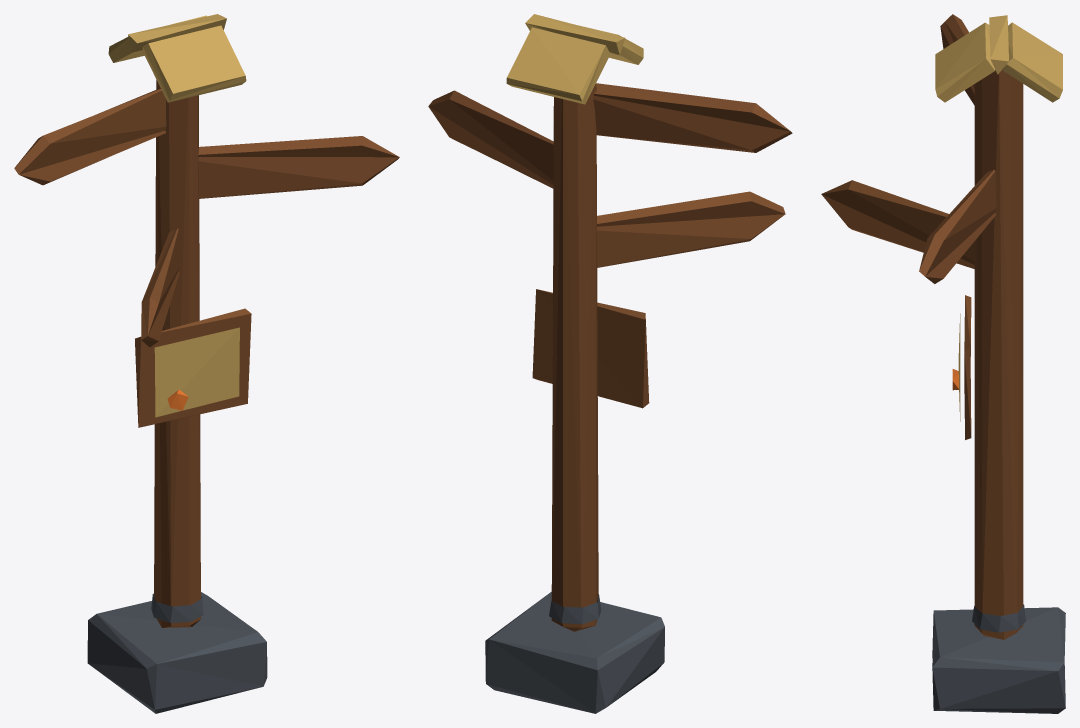
Rendered from quest_signpost_lod1.obj.
3 renders of one model, left to right at view 1: azimuth 30°, elevation 25°; view 2: azimuth 150°, elevation 25°; view 3: azimuth 270°, elevation 25°, orthographic.
Visible parts, largest first — view 1: quest_signpost_lod1; view 2: quest_signpost_lod1; view 3: quest_signpost_lod1.
Boxes of the visible parts, x1=… form: quest_signpost_lod1: x1=14, y1=14, x2=399, y2=713; quest_signpost_lod1: x1=428, y1=14, x2=792, y2=713; quest_signpost_lod1: x1=821, y1=14, x2=1065, y2=713.
Size of the model in its own units: 1.24 by 2.07 by 0.704.
